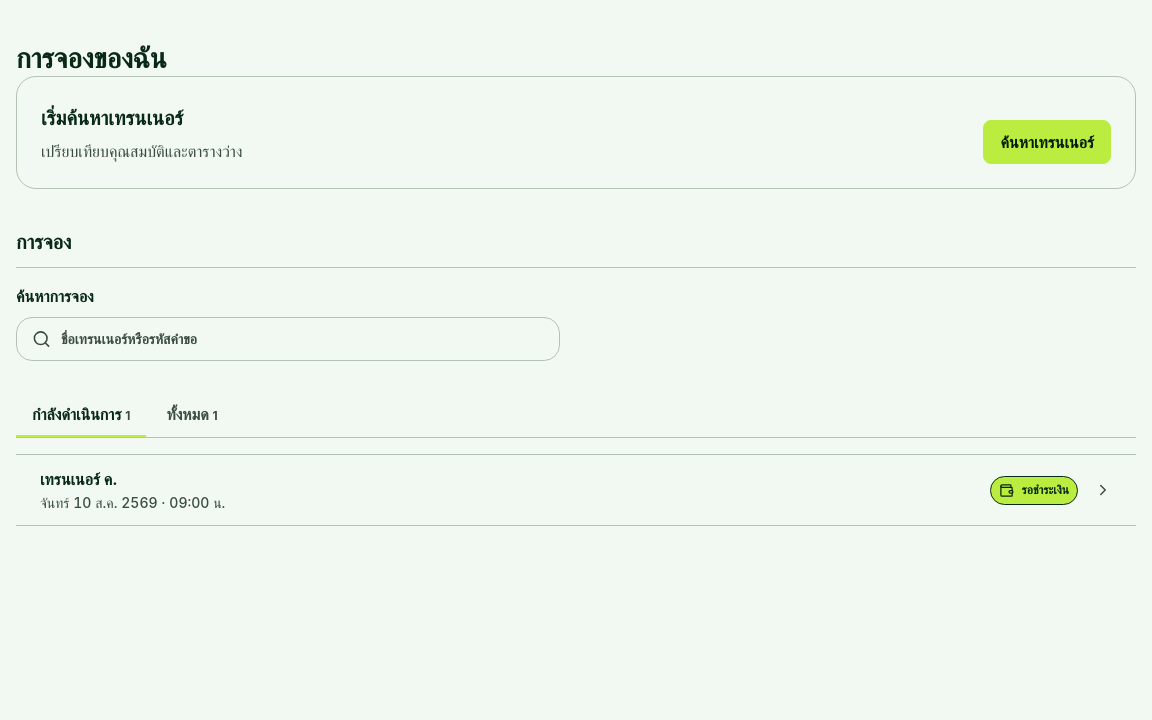
Test: member role dashboard › confirms an unpaid cancellation and reloads the member ledger
Click the button with test id "booking-summary": (79, 479) x1=16 y1=455 x2=1136 y2=526
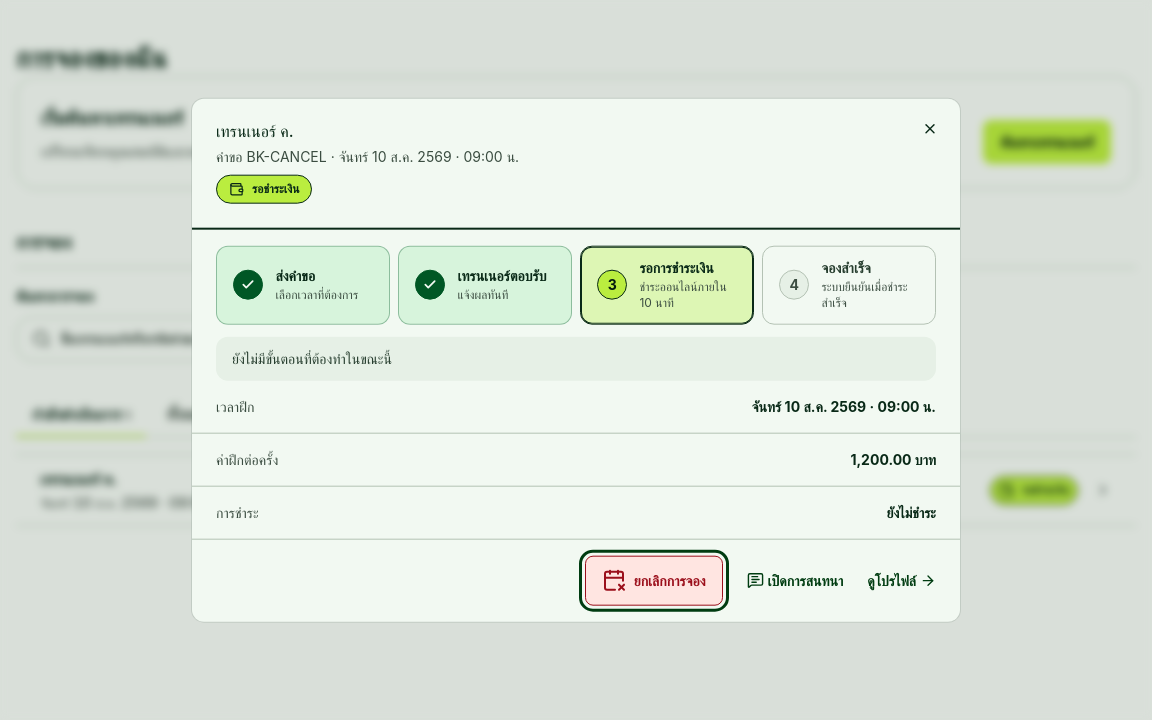
Click the button "ยกเลิกการจอง": (654, 580) x1=585 y1=555 x2=722 y2=605
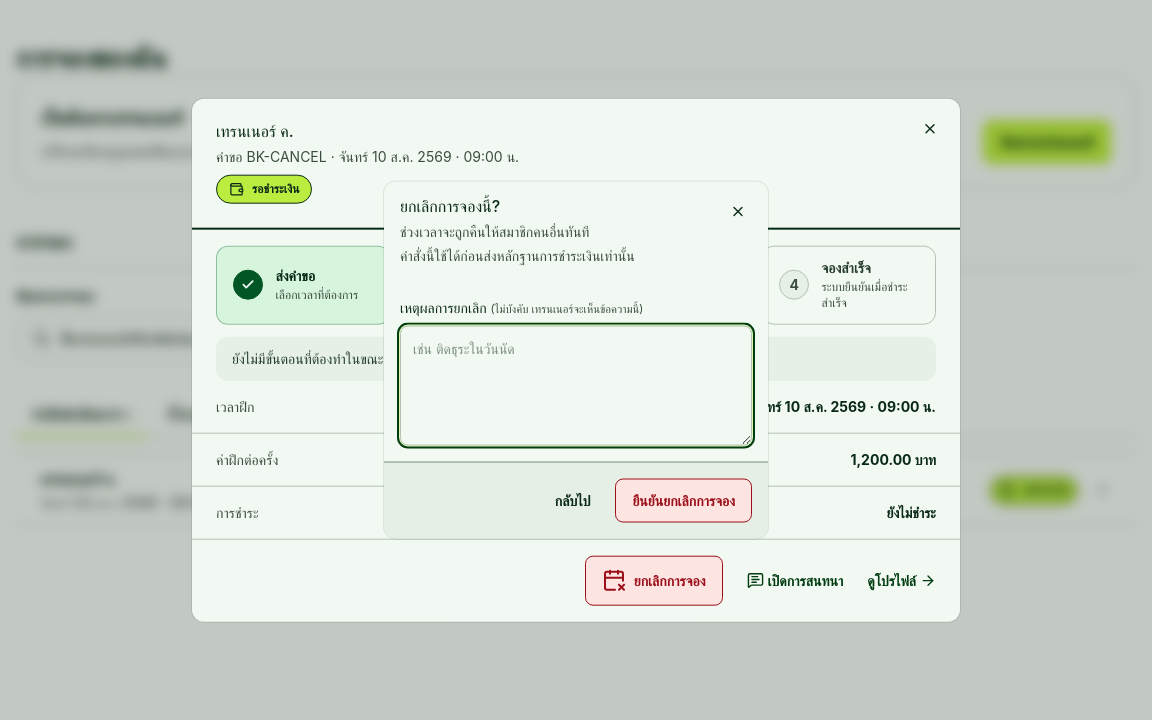
Now the dialog "ยกเลิกการจองนี้?" is shown, box x1=384 y1=182 x2=768 y2=538
Now the text "ช่วงเวลาจะถูกคืนให้สมาชิกคนอื่นทันที" is shown, box x1=400 y1=222 x2=589 y2=240
In the text box labelled "เหตุผลการยกเลิก (ไม่บังคับ เทรนเนอร์จะเห็นข้อความนี้)": (576, 386) x1=400 y1=326 x2=752 y2=446, type "  ติดธุระในวันนัด  "
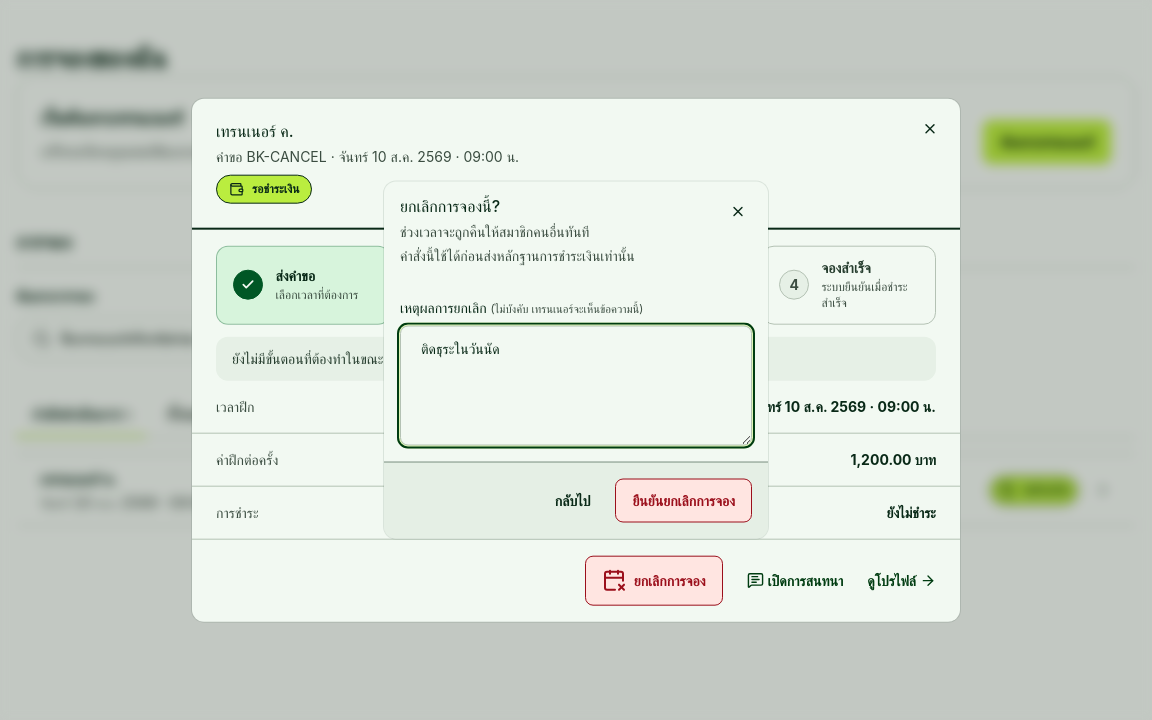
Click the button "ยืนยันยกเลิกการจอง": (684, 500) x1=615 y1=478 x2=752 y2=522
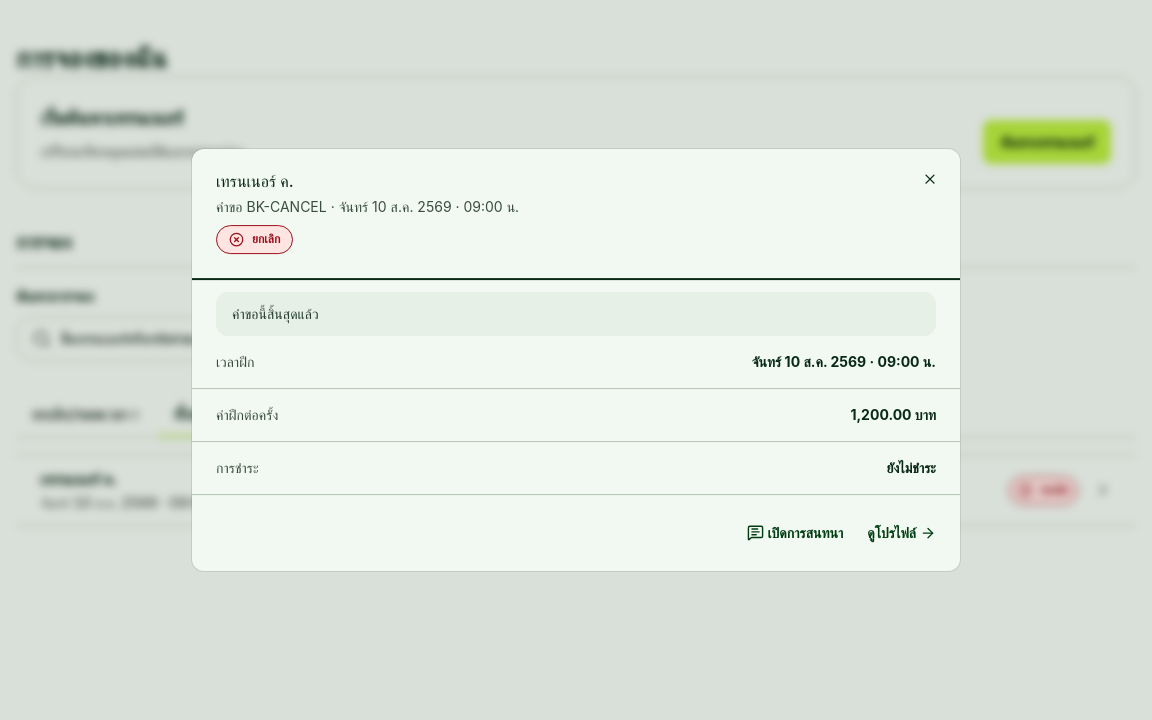
Now the text "คำขอนี้สิ้นสุดแล้ว" is shown, box x1=216 y1=292 x2=936 y2=336
Now the button "ยกเลิกการจอง" is gone
